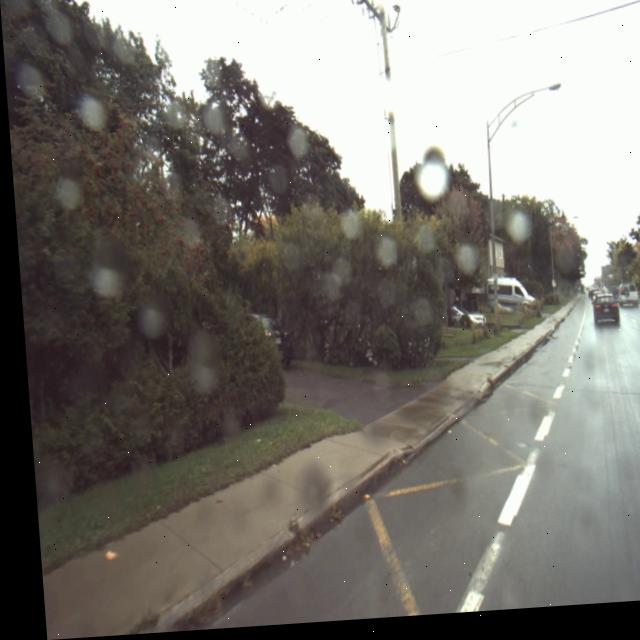car: (247, 316, 288, 373), (484, 283, 532, 321), (444, 309, 481, 335), (587, 301, 614, 336), (612, 289, 635, 317)
